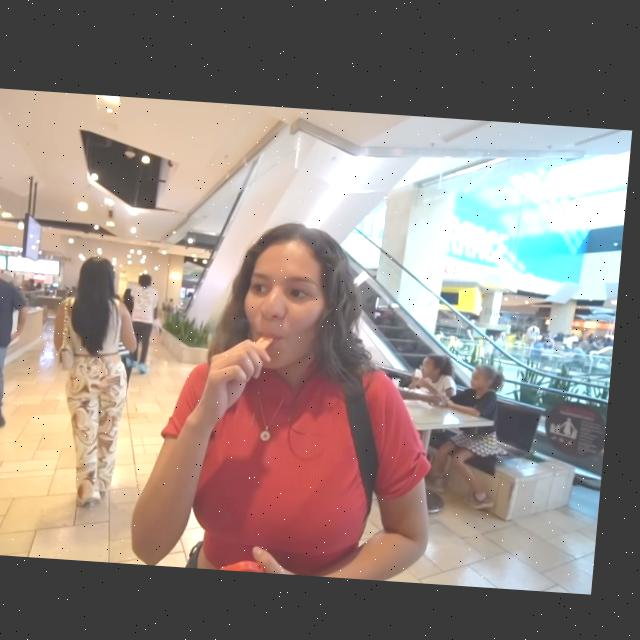vape: (259, 330, 281, 348)
